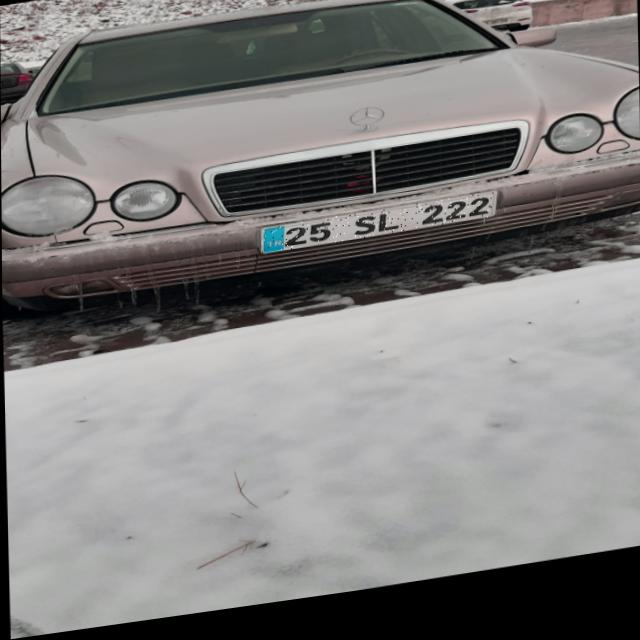license_plate: (260, 205, 496, 261)
